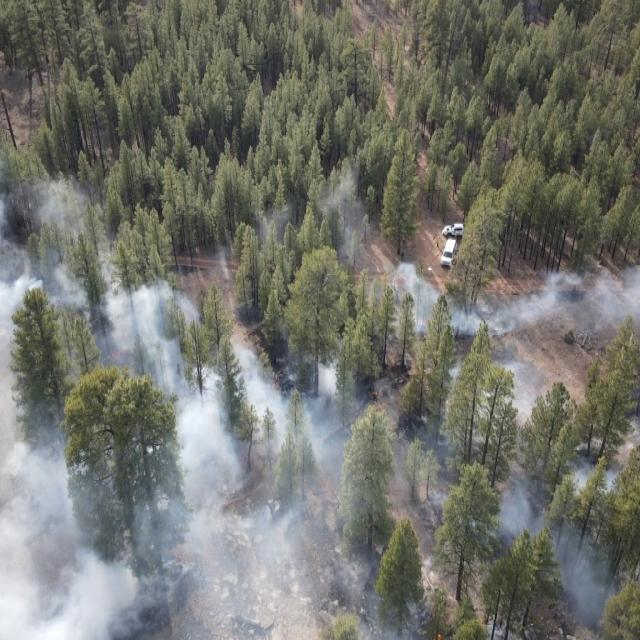fire: (426, 624, 454, 640)
smoke: (0, 175, 283, 640), (277, 342, 640, 640), (361, 262, 640, 342), (311, 164, 364, 268)
